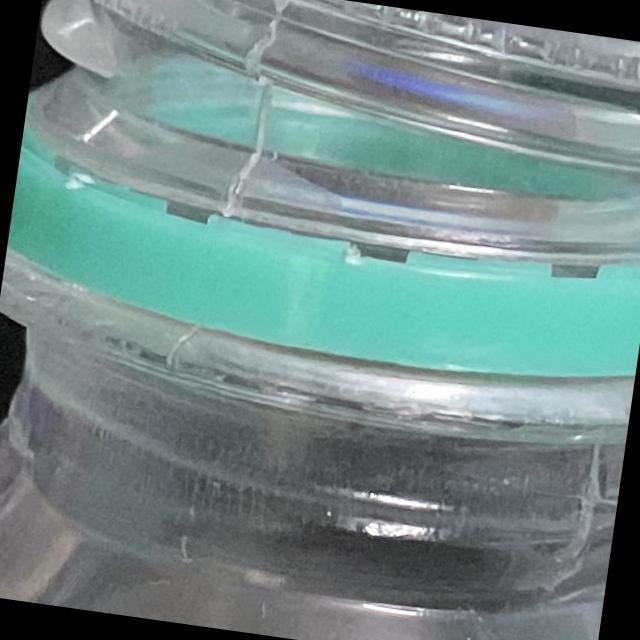open-cap: (7, 0, 640, 400)
